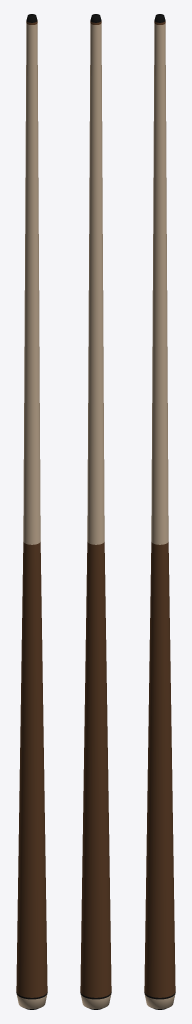
File: CueStick.fbx
3 views of the same model, side by side, from view 1: azimuth 90°, elevation 25°; view 2: azimuth 150°, elevation 25°; view 3: azimuth 330°, elevation 25° (orthographic).
Visible parts, largest first — view 1: Cylinder; view 2: Cylinder; view 3: Cylinder.
Part boxes in pixels (left/top/right/bottom): Cylinder: left=16, top=14, right=47, bottom=1009; Cylinder: left=80, top=14, right=111, bottom=1009; Cylinder: left=144, top=14, right=175, bottom=1009.
Size of the model in its own units: 21.26 by 745 by 21.26.
